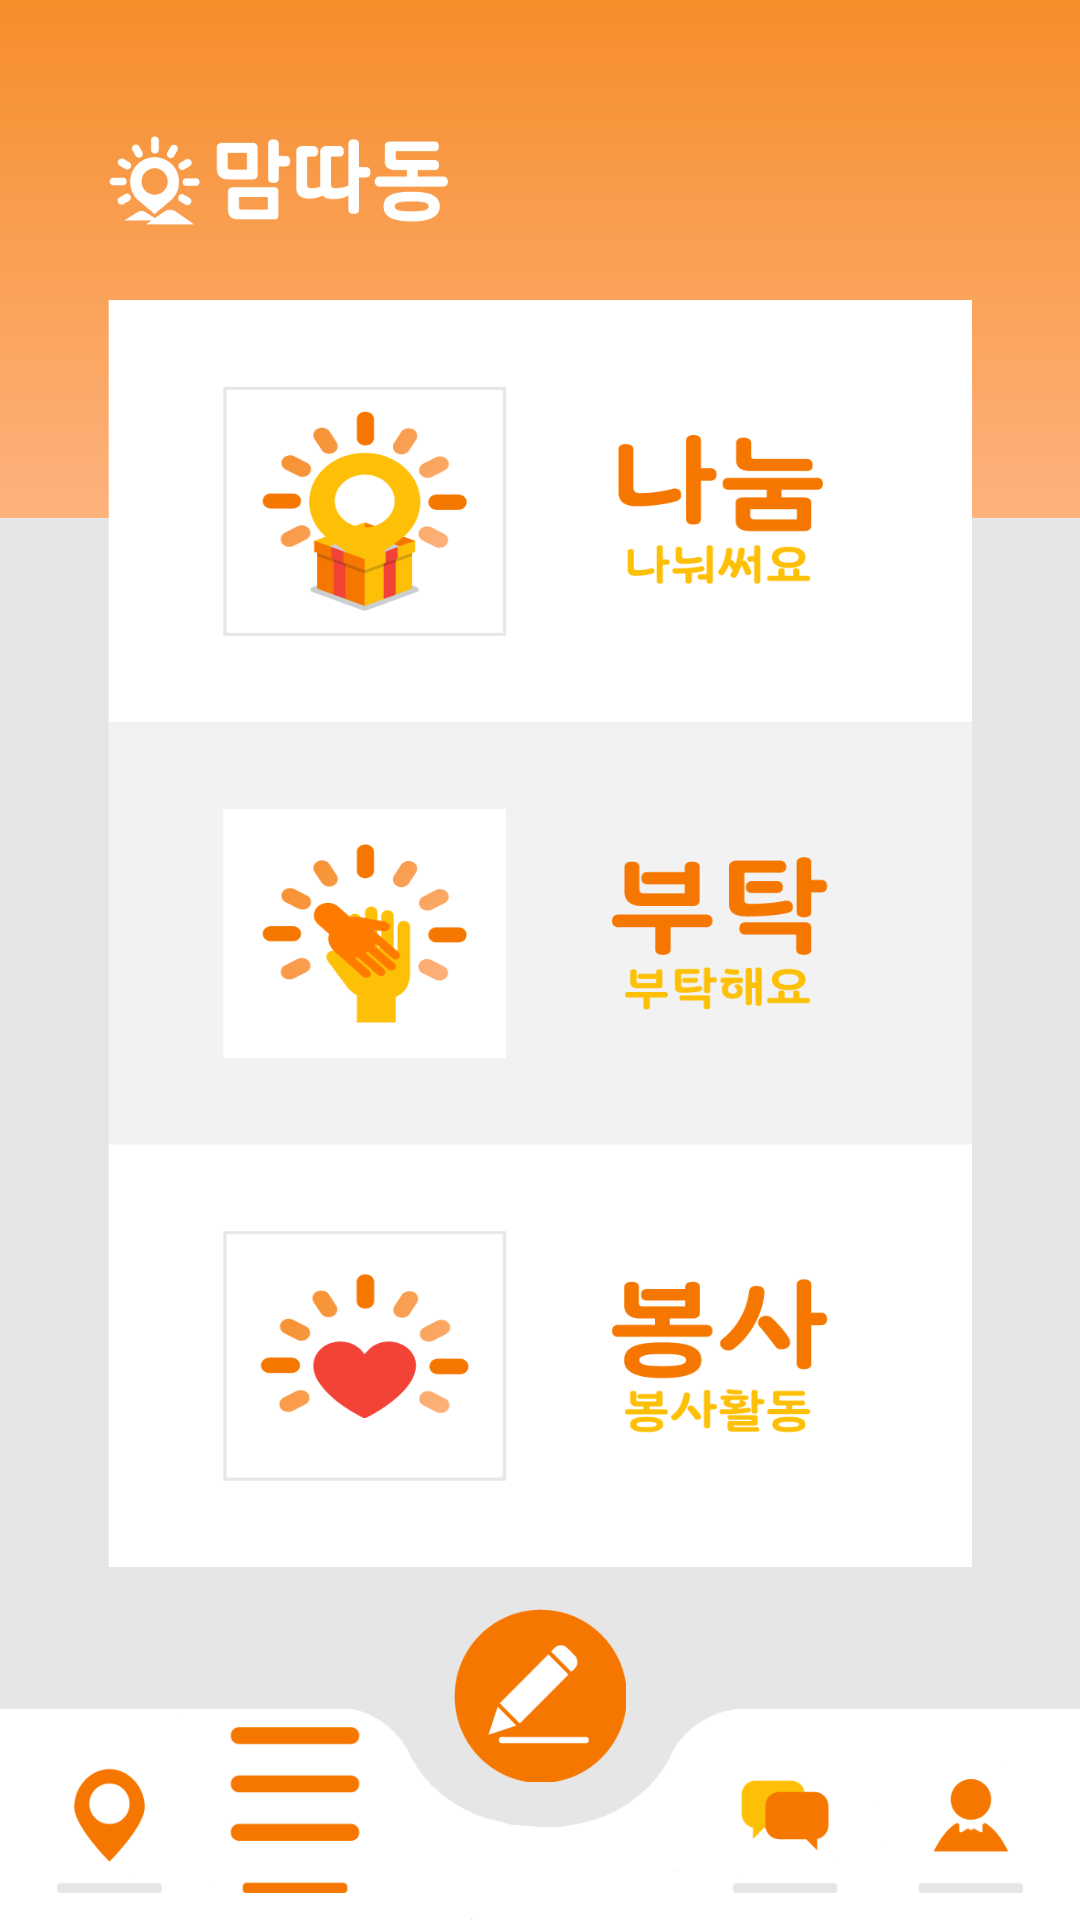

Icon bounding boxes for this 1080px×1920px phone screenshot, format (x1, y1, x2, y2):
category: (230, 1727, 360, 1893)
chat: (733, 1780, 837, 1893)
map: (58, 1768, 161, 1893)
profile: (919, 1779, 1023, 1893)
write: (454, 1609, 626, 1782)
